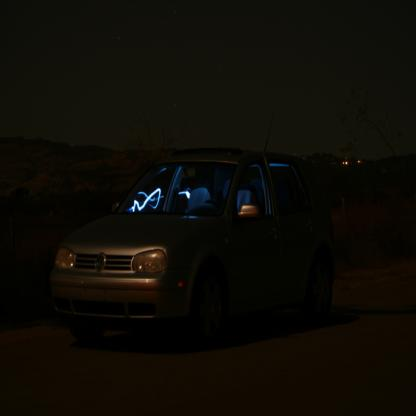Car: (50, 111, 337, 349)
